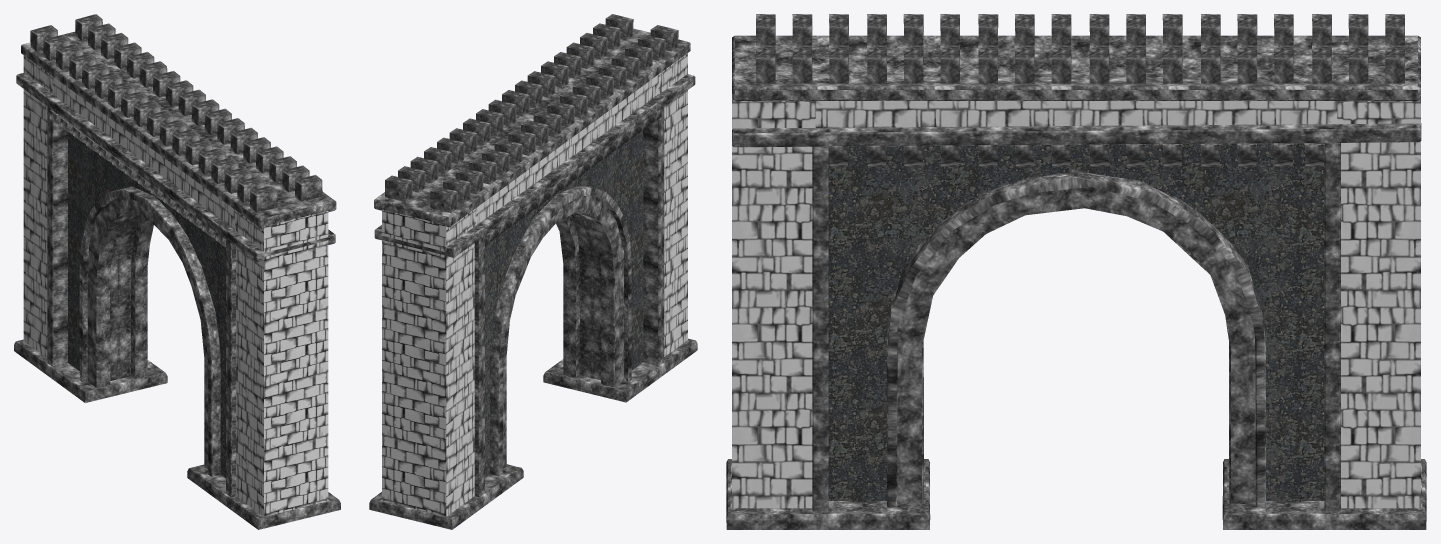
The model's file is SM_arch_02.fbx.
The picture shows the model from 3 angles, left to right: view 1: azimuth 30°, elevation 25°; view 2: azimuth 150°, elevation 25°; view 3: azimuth 270°, elevation 25°; orthographic projection. The views are drawn at different scales.
Parts seen in each view (by area): view 1: SM_arch_02_LOD0; view 2: SM_arch_02_LOD0; view 3: SM_arch_02_LOD0.
Part boxes in pixels (x1,y1,x2,y2): SM_arch_02_LOD0: [14, 14, 340, 529]; SM_arch_02_LOD0: [369, 14, 697, 529]; SM_arch_02_LOD0: [726, 14, 1426, 529].
Size of the model in its own units: 341 by 1741 by 1277.
